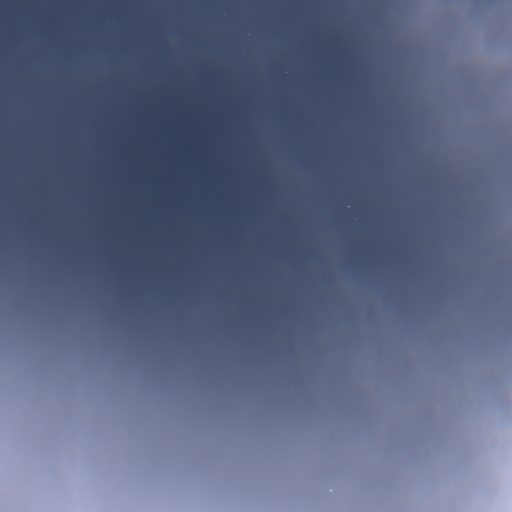Iceberg: (329, 489, 332, 491), (285, 71, 287, 73), (348, 205, 350, 207), (355, 218, 357, 219), (224, 14, 225, 15), (248, 33, 249, 34), (242, 50, 243, 51)
